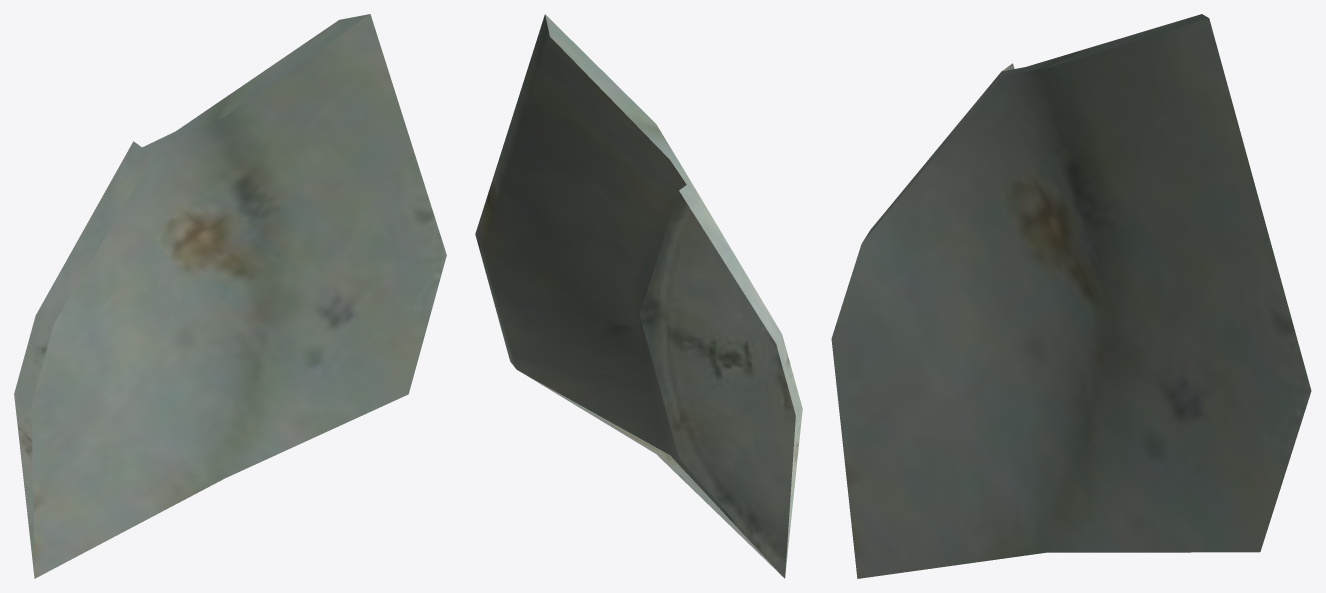
Rendered from prop_diningplate_brokenplain4.glb.
The picture shows the model from 3 angles, left to right: view 1: azimuth 30°, elevation 25°; view 2: azimuth 150°, elevation 25°; view 3: azimuth 330°, elevation 25°; orthographic projection. The views are drawn at different scales.
Bounding box in the file's own units: 5.07 × 6.41 × 1.01.
Materials: 1 (1 with a texture image).
